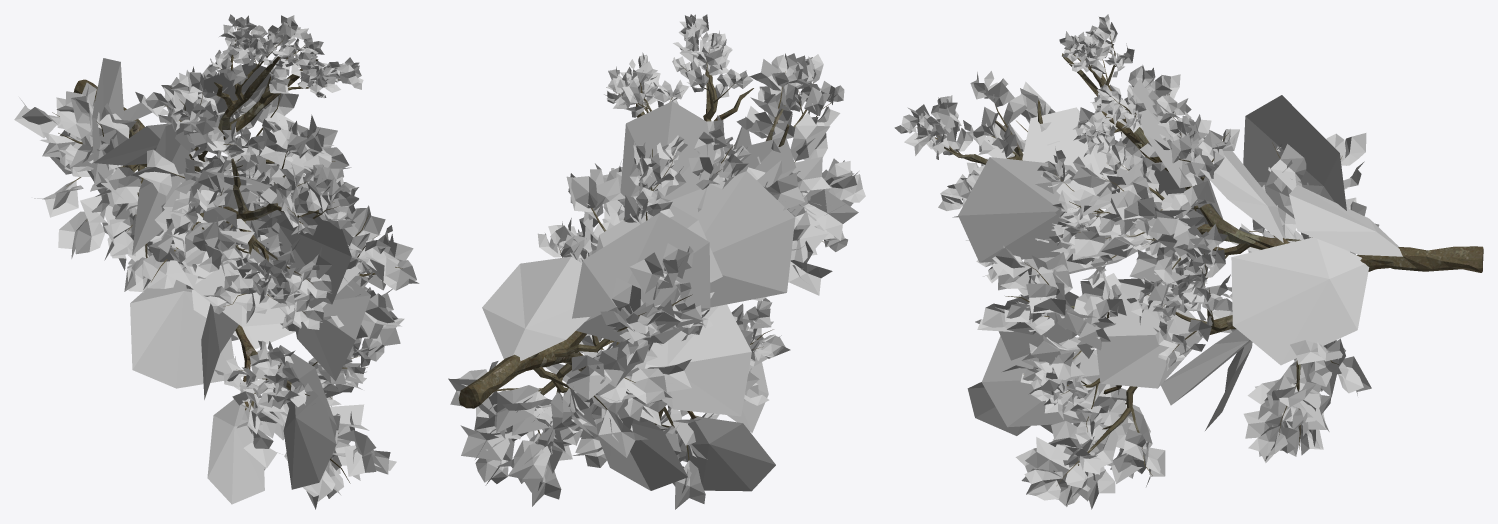
Rendered from House30.fbx.
3 views of the same model, side by side, from view 1: azimuth 30°, elevation 25°; view 2: azimuth 150°, elevation 25°; view 3: azimuth 270°, elevation 25° (orthographic). The views are drawn at different scales.
Parts seen in each view (by area): view 1: AT_BGAgo_GiantTree_B01_10B.mo; view 2: AT_BGAgo_GiantTree_B01_10B.mo; view 3: AT_BGAgo_GiantTree_B01_10B.mo.
Boxes of the visible parts, left/top/right/bottom form: AT_BGAgo_GiantTree_B01_10B.mo: left=14, top=14, right=419, bottom=509; AT_BGAgo_GiantTree_B01_10B.mo: left=448, top=14, right=865, bottom=509; AT_BGAgo_GiantTree_B01_10B.mo: left=894, top=14, right=1483, bottom=509.
Size of the model in its own units: 4302 by 7300 by 8508.
